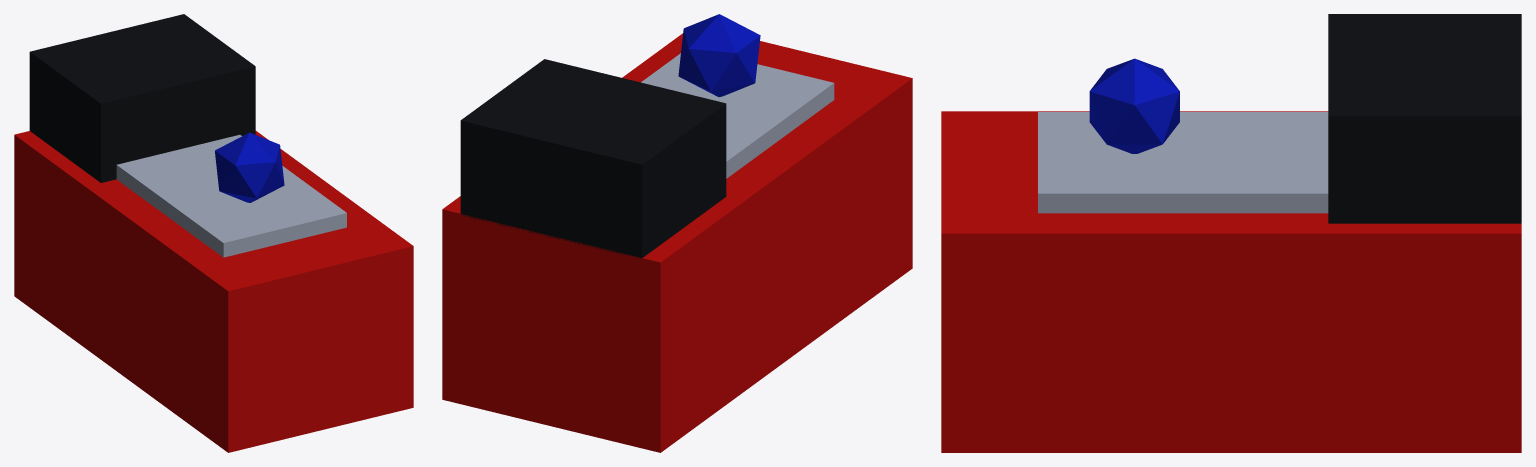
File: ball_return.obj
3 renders of one model, left to right at view 1: azimuth 30°, elevation 25°; view 2: azimuth 150°, elevation 25°; view 3: azimuth 270°, elevation 25°, orthographic. The views are drawn at different scales.
Parts seen in each view (by area): view 1: ball_return; view 2: ball_return; view 3: ball_return.
Boxes of the visible parts, left/top/right/bottom form: ball_return: left=14, top=14, right=413, bottom=452; ball_return: left=442, top=14, right=912, bottom=452; ball_return: left=941, top=14, right=1521, bottom=452.
Size of the model in its own units: 0.6 by 0.76 by 1.2.
